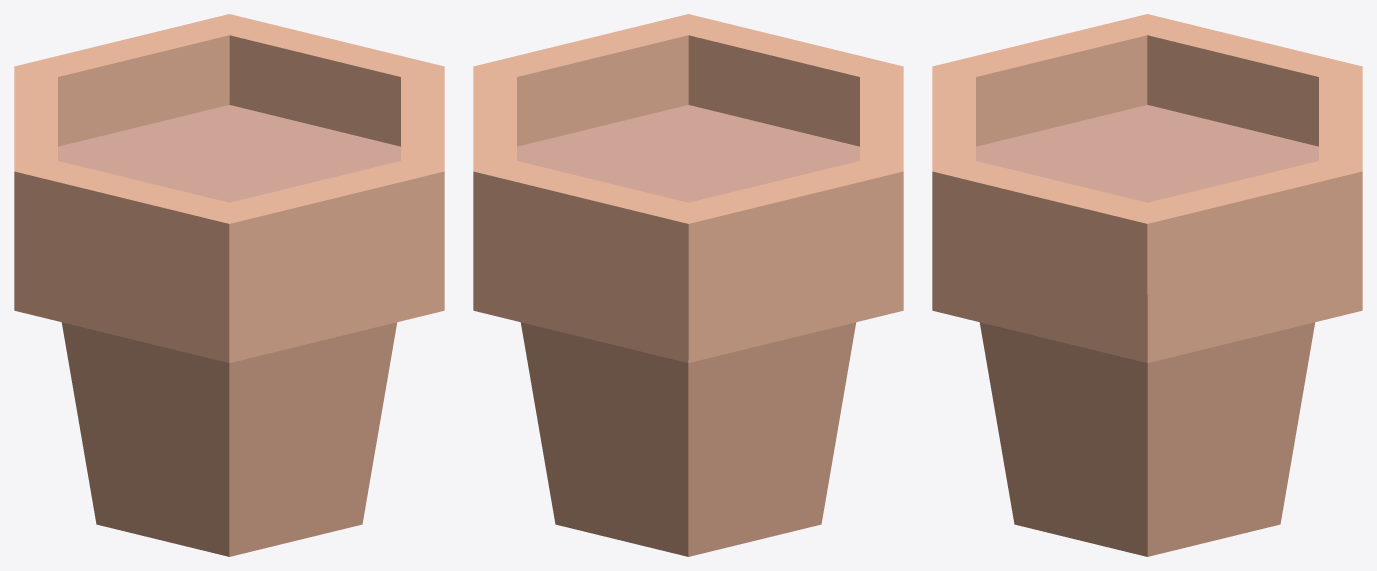
The model's file is pot_small.glb.
The picture shows the model from 3 angles, left to right: view 1: azimuth 30°, elevation 25°; view 2: azimuth 150°, elevation 25°; view 3: azimuth 270°, elevation 25°; orthographic projection.
Parts seen in each view (by area): view 1: pot_small; view 2: pot_small; view 3: pot_small.
Part boxes in pixels (x1=…): pot_small: x1=14, y1=14, x2=444, y2=556; pot_small: x1=473, y1=14, x2=903, y2=556; pot_small: x1=932, y1=14, x2=1362, y2=556.
Bounding box in the file's own units: 0.3234 × 0.268 × 0.2801.
